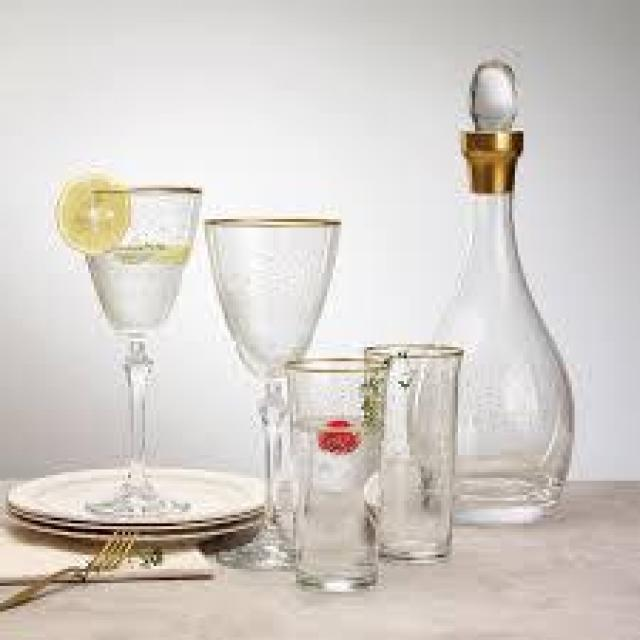glass: (407, 56, 580, 530), (51, 170, 205, 520), (284, 354, 387, 596)
